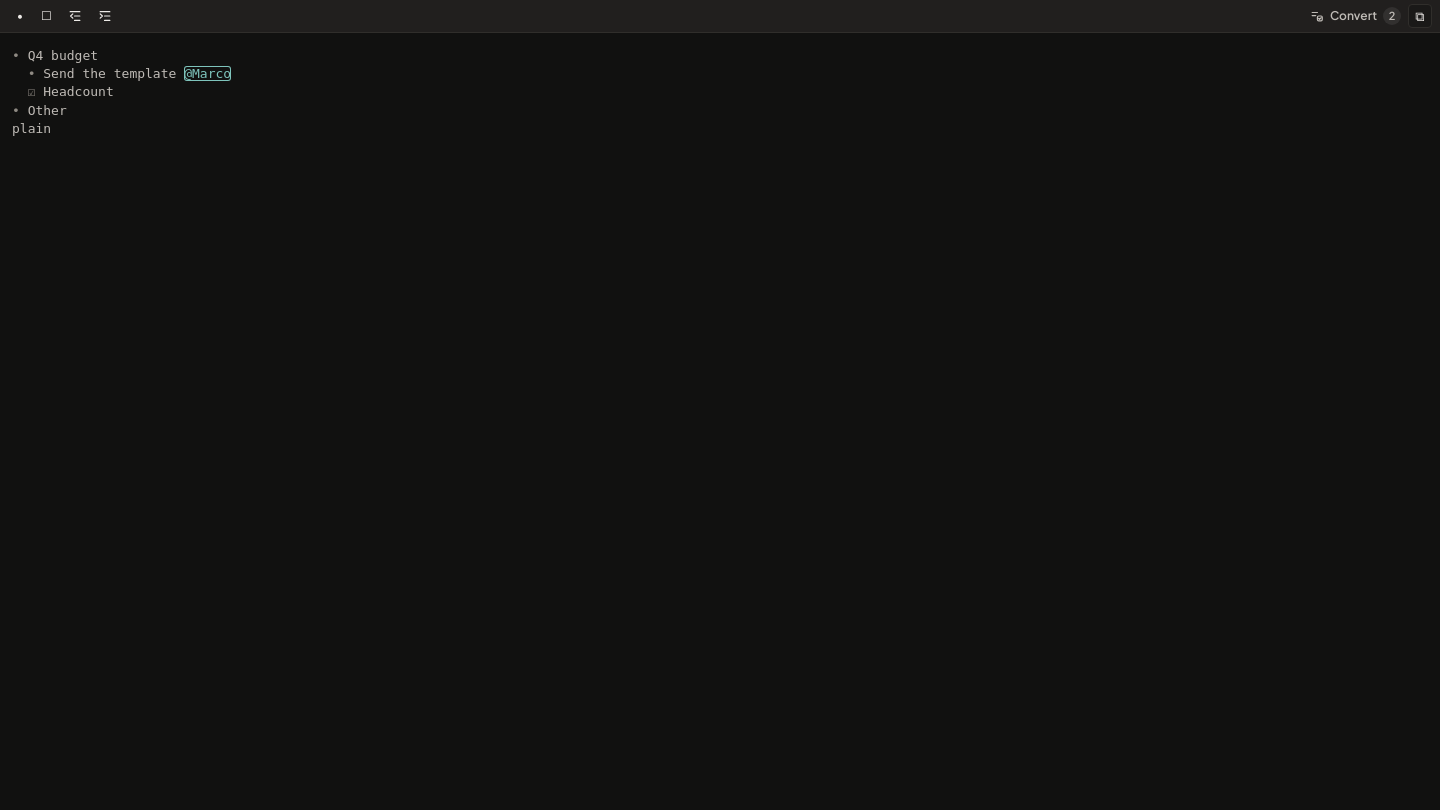
Test: Convert preview › indented list lines under a bullet are its task’s subtasks (cr28): shown under the draft, stored with the task; Remove takes them with the line
Click the button "Convert 2" at x=1354, y=16, box [1303,4,1406,28]
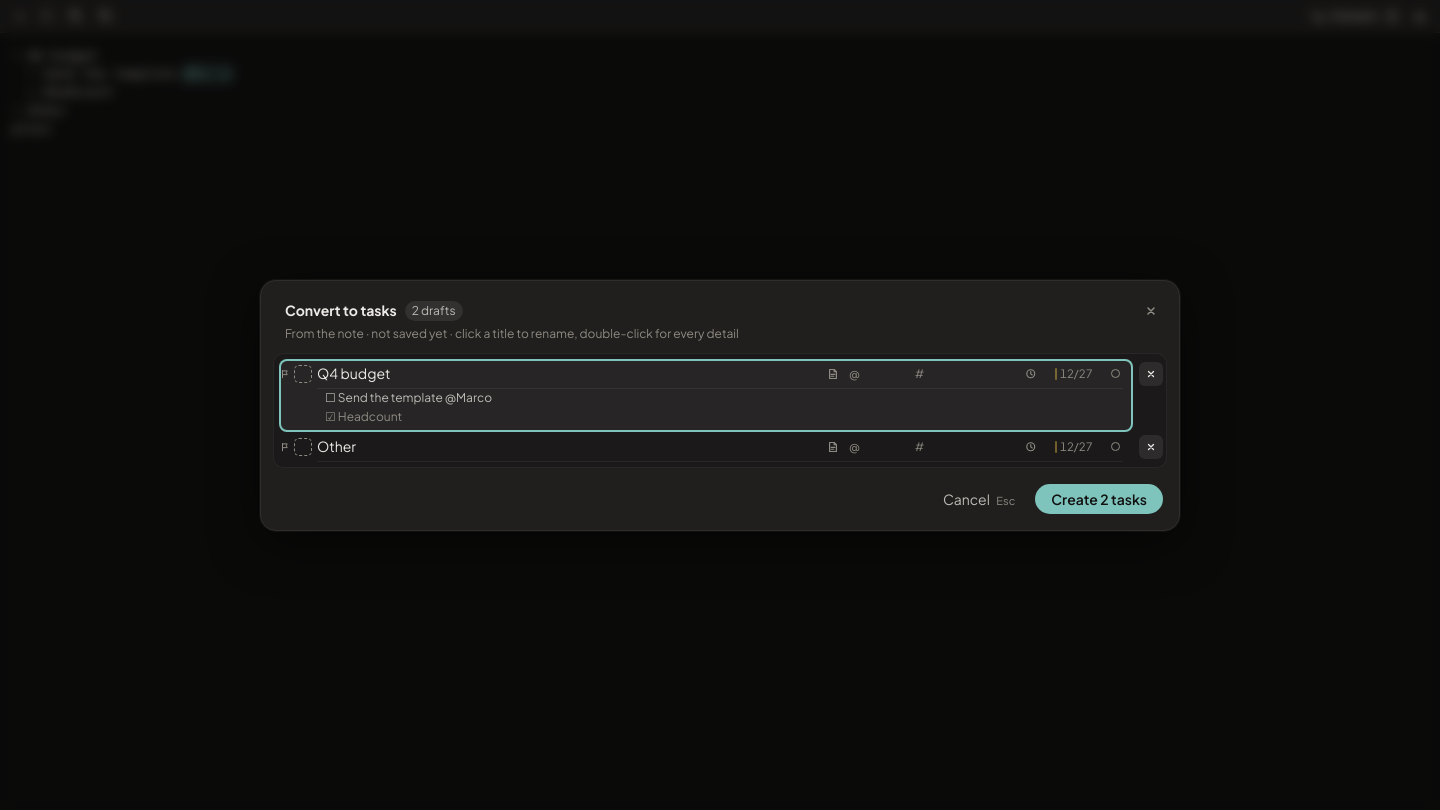
Expected: the text "2 drafts" is shown, [405,300,462,320]
Expected: the list named "Subtasks of Q4 budget" reads "☐ Send the template @Marco ☑ Headcount", [325,390,492,424]
Click the button "Create 2 tasks" at x=1099, y=498, box [1035,484,1163,514]
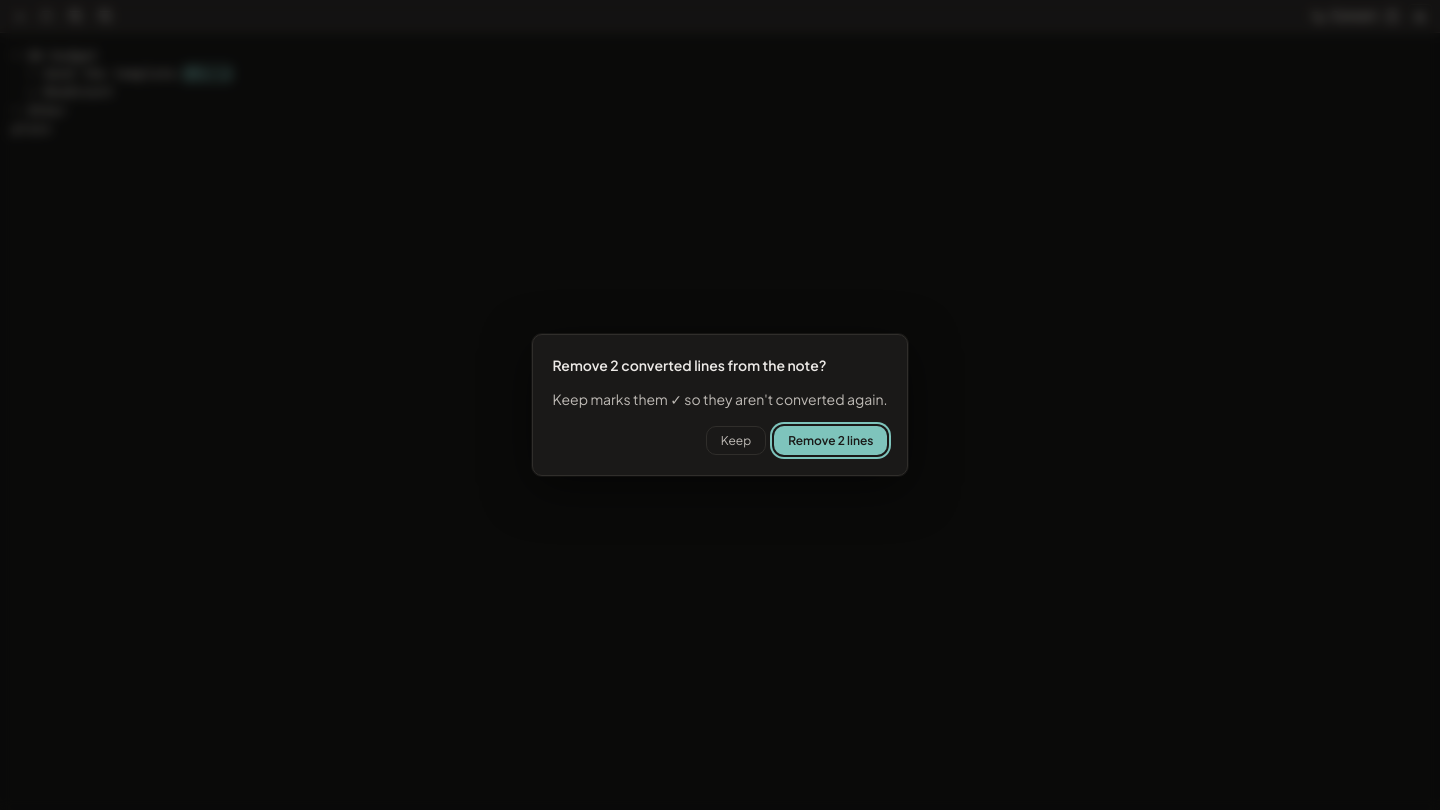
Click the button "Remove 2 lines" at x=831, y=441, box [774,426,887,455]
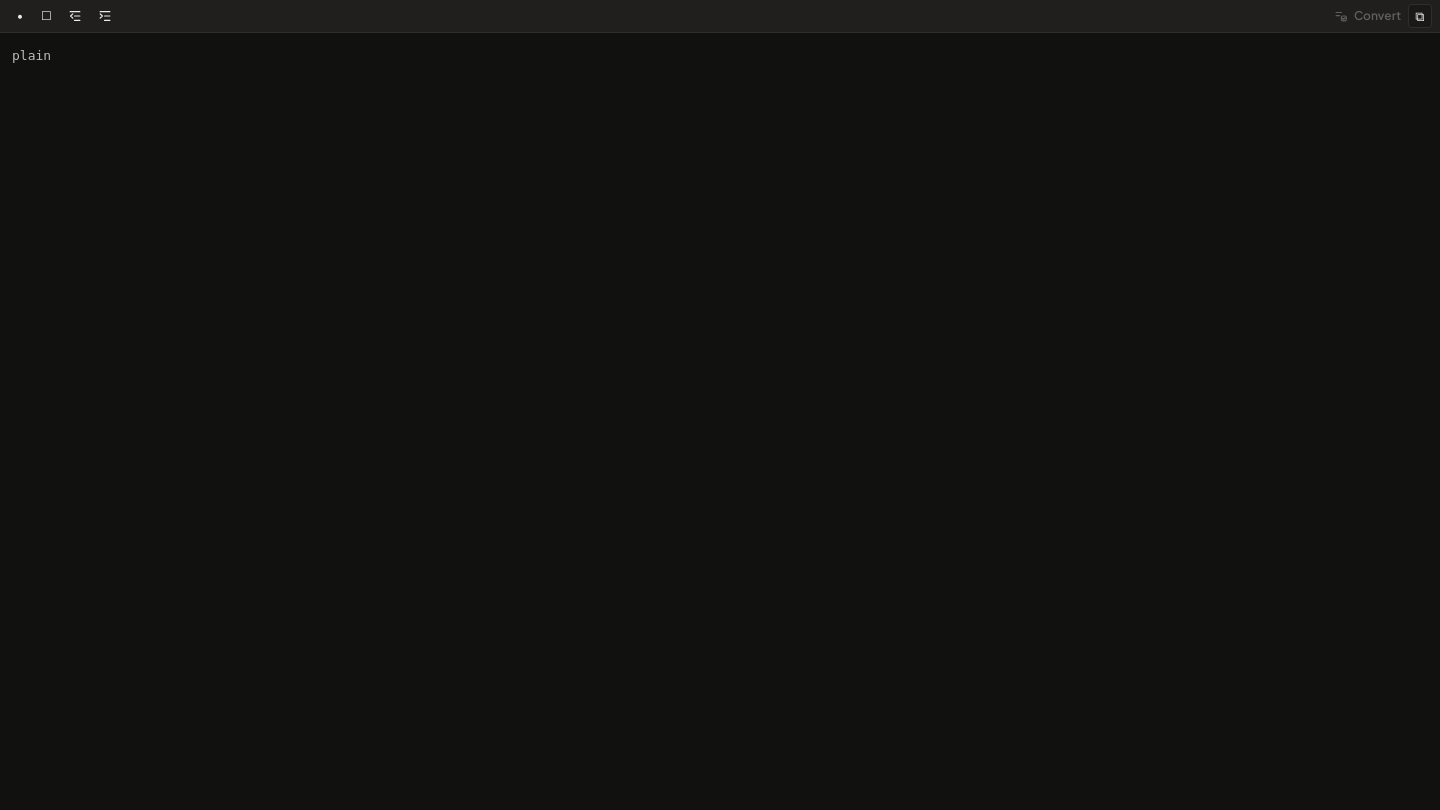
Expected: the text box labelled "plain" is shown, [12,48,51,63]
